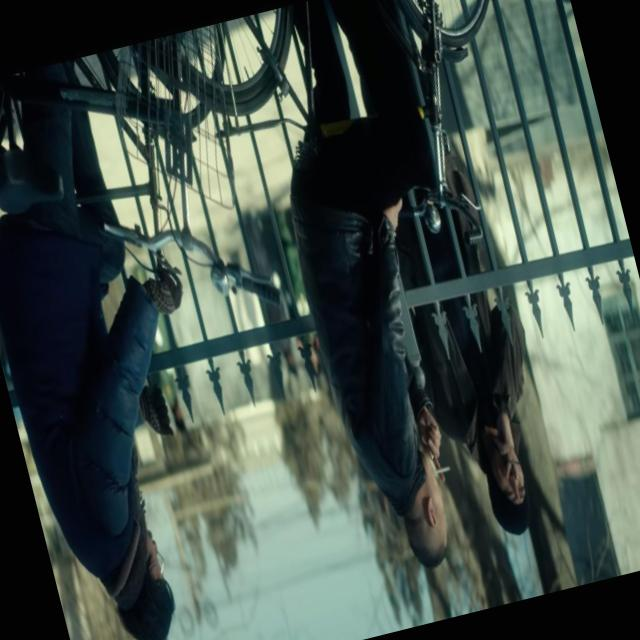smoke: (428, 448, 458, 483)
